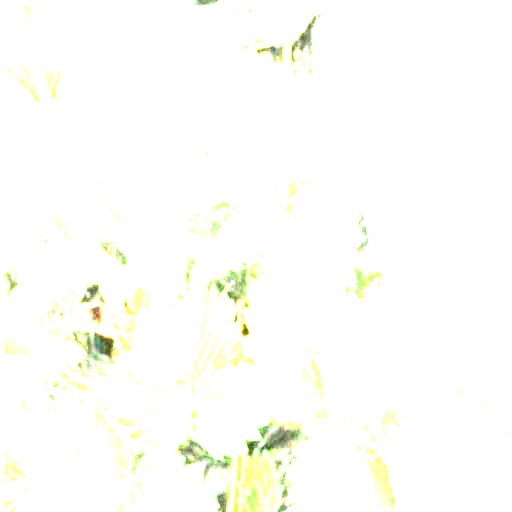Leaf Spot: (239, 215, 352, 427), (316, 268, 446, 434), (285, 67, 400, 209), (407, 252, 511, 409), (373, 392, 509, 511), (203, 46, 297, 206), (283, 425, 397, 511), (283, 183, 359, 291)
